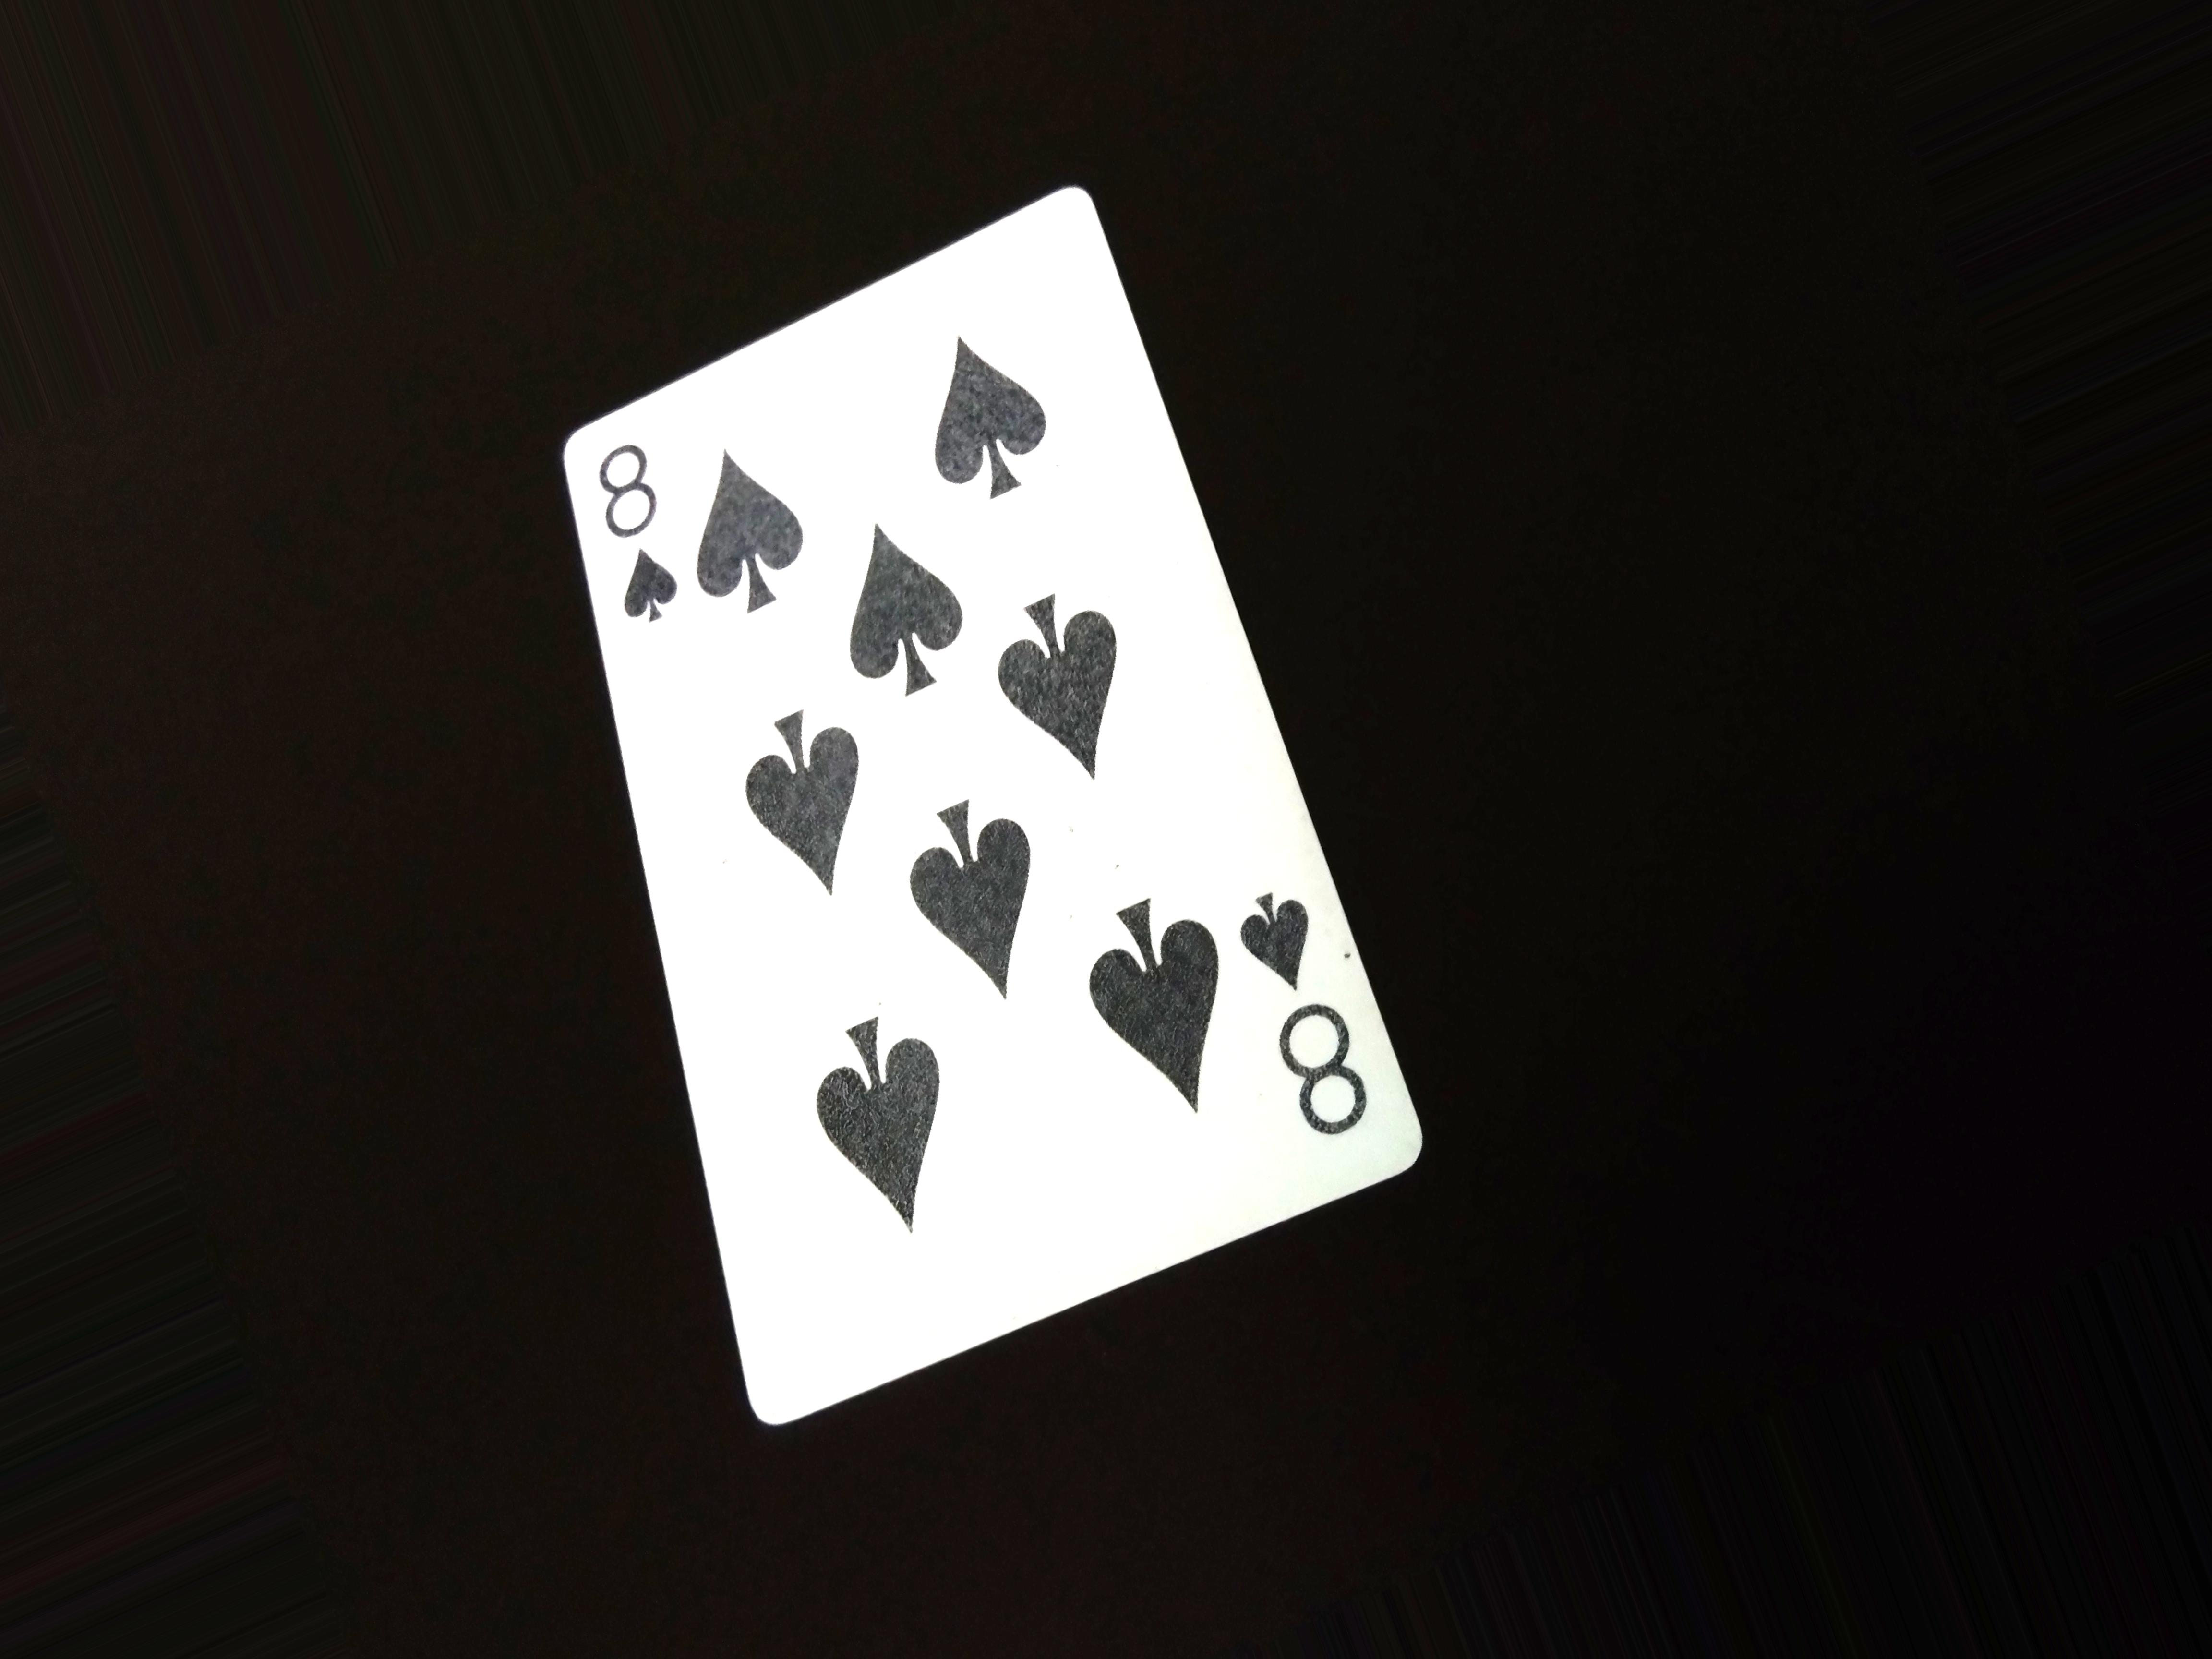8S: (573, 427, 695, 652)
